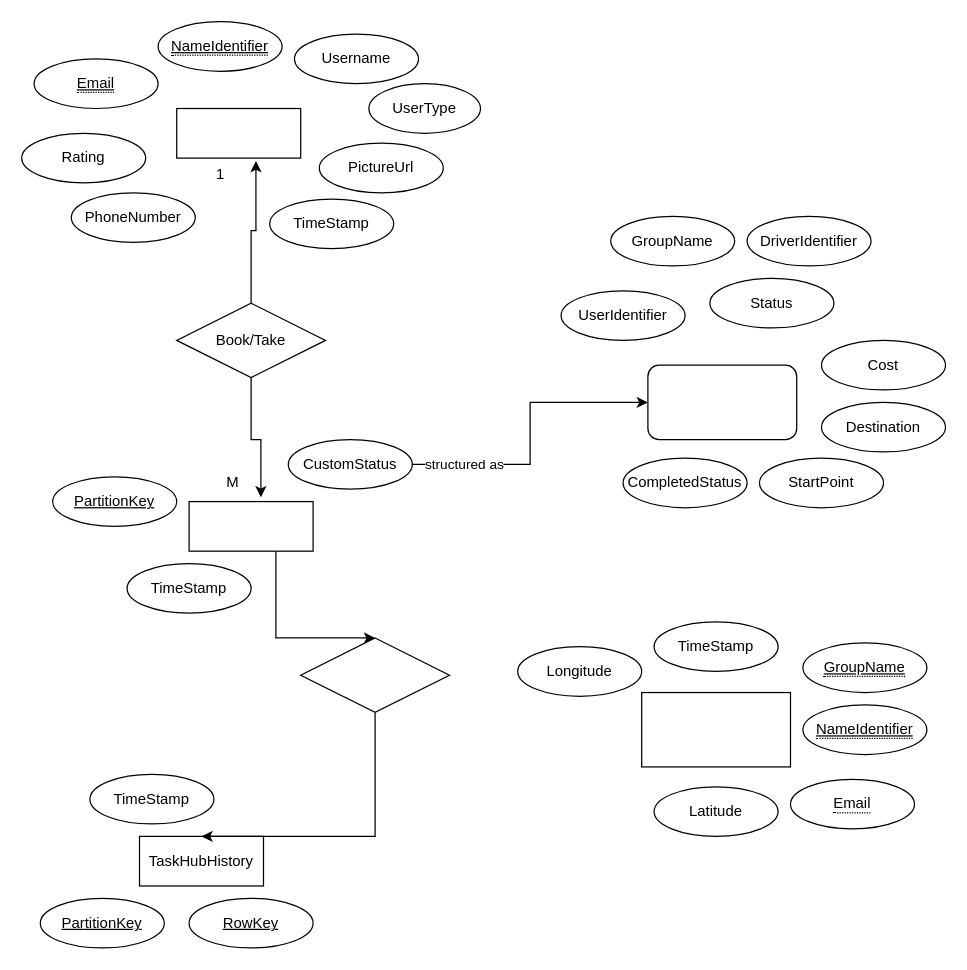
Some shapes in this 967 by 970 pixel diagram are drawn without their labels. Each missing label, with the centre of its shape:
"Detailed in" belongs at point (374, 674).
"OnlineDrivers" belongs at point (715, 729).
"Ride" belongs at point (722, 402).
"TaskHubInstances" belongs at point (250, 525).
"Users" belongs at point (238, 132).
